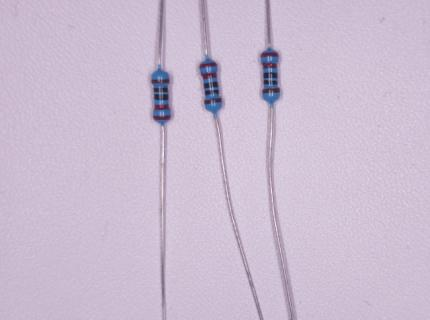Black band: (204, 82, 218, 89), (154, 94, 169, 100), (263, 72, 278, 78), (154, 87, 168, 92), (205, 90, 219, 95), (264, 80, 278, 85)
Brown band: (204, 97, 222, 105), (263, 88, 280, 94), (151, 79, 169, 84)
Red band: (199, 62, 218, 69), (201, 72, 217, 80), (154, 104, 170, 110), (262, 63, 278, 69), (153, 115, 171, 120), (261, 53, 279, 58)
